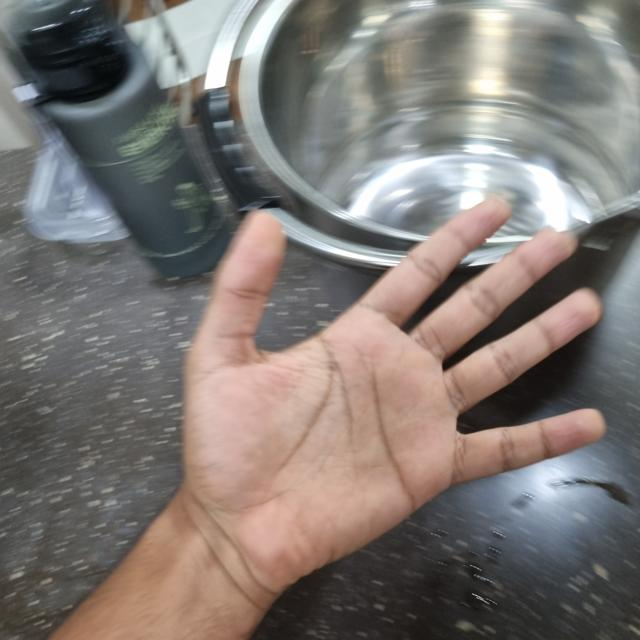Paper: (178, 197, 604, 581)
